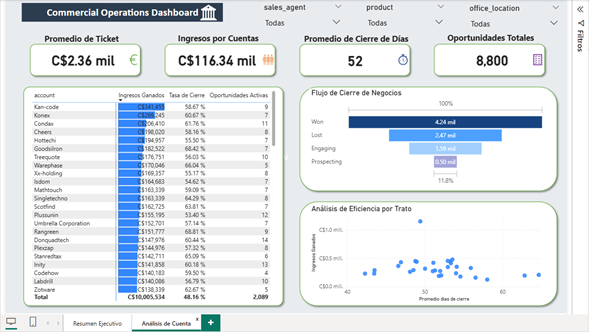

What the dashboard file says about the page in this screenshot:
{"tool":"powerbi","page":{"name":"Análisis de Cuenta","canvas":[1280,720],"ordinal":1},"visuals":[{"type":"funnel","title":"Flujo de Cierre de Negocios","fields":{"Category":["sales_pipeline.deal_stage"],"Y":["CountNonNull(sales_pipeline.opportunity_id)"]},"box":[692.7,203.1,543.6,226.2],"z":0},{"type":"scatterChart","title":"Análisis de Eficiencia por Trato","fields":{"X":["sales_pipeline.Promedio dias de cierre"],"Y":["sales_pipeline.Ingresos Ganados"],"Category":["sales_teams.sales_agent"]},"box":[692.7,467.8,543.6,227.5],"z":1000},{"type":"pivotTable","fields":{"Rows":["accounts.account"],"Values":["sales_pipeline.Ingresos Ganados","sales_pipeline.Tasa de Cierre","sales_pipeline.Oportunidades Activas"]},"box":[52.7,203.1,568,492.2],"z":2000},{"type":"card","fields":{"Values":["sales_pipeline.Promedio dias de cierre"]},"box":[692.7,106.7,209.5,61.7],"z":3000},{"type":"card","fields":{"Values":["sales_pipeline.Ticket Promedio"]},"box":[81,69.4,187.6,133.7],"z":4000},{"type":"card","fields":{"Values":["sales_pipeline.Ingresos por Cuenta"]},"box":[379.1,100.2,205.6,72],"z":5000},{"type":"card","fields":{"Values":["sales_pipeline.Total Oportunidades"]},"box":[1055.1,104.1,114.4,64.3],"z":6000},{"type":"textbox","box":[81,70.7,188.9,36],"z":7000},{"type":"textbox","box":[386.8,69.4,197.9,37.3],"z":8000},{"type":"textbox","box":[676,70.7,260.9,39.8],"z":9000},{"type":"textbox","box":[1005,68.1,214.6,36],"z":10000},{"type":"slicer","fields":{"Values":["sales_teams.sales_agent"]},"box":[575.7,0,204.3,59.1],"z":11000},{"type":"slicer","fields":{"Values":["products.product"]},"box":[811.6,0,204.3,59.1],"z":12000},{"type":"slicer","fields":{"Values":["accounts.office_location"]},"box":[1047.4,2.6,231.3,60.4],"z":13000}]}

Visuals, with their boxes on the page's 1280x720 design canvas (x1, y1, x2, y2). These are canvas units, not pixel positions in the 589x332 screenshot, which may show the page scaled, cropped or inside an application window:
"Flujo de Cierre de Negocios" funnel: l=693, t=203, r=1236, b=429
"Análisis de Eficiencia por Trato" scatterChart: l=693, t=468, r=1236, b=695
pivotTable - accounts.account x sales_pipeline.Ingresos Ganados: l=53, t=203, r=621, b=695
card - sales_pipeline.Promedio dias de cierre: l=693, t=107, r=902, b=168
card - sales_pipeline.Ticket Promedio: l=81, t=69, r=269, b=203
card - sales_pipeline.Ingresos por Cuenta: l=379, t=100, r=585, b=172
card - sales_pipeline.Total Oportunidades: l=1055, t=104, r=1170, b=168
textbox: l=81, t=71, r=270, b=107
textbox: l=387, t=69, r=585, b=107
textbox: l=676, t=71, r=937, b=110
textbox: l=1005, t=68, r=1220, b=104
slicer - sales_teams.sales_agent: l=576, t=0, r=780, b=59
slicer - products.product: l=812, t=0, r=1016, b=59
slicer - accounts.office_location: l=1047, t=3, r=1279, b=63
